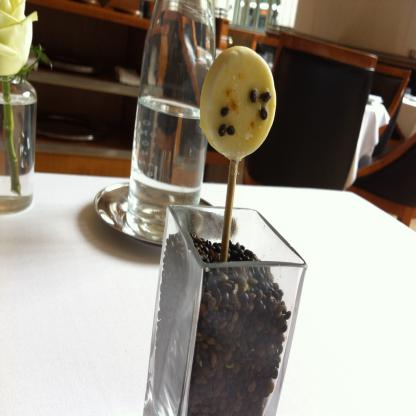vase: (0, 74, 38, 211)
